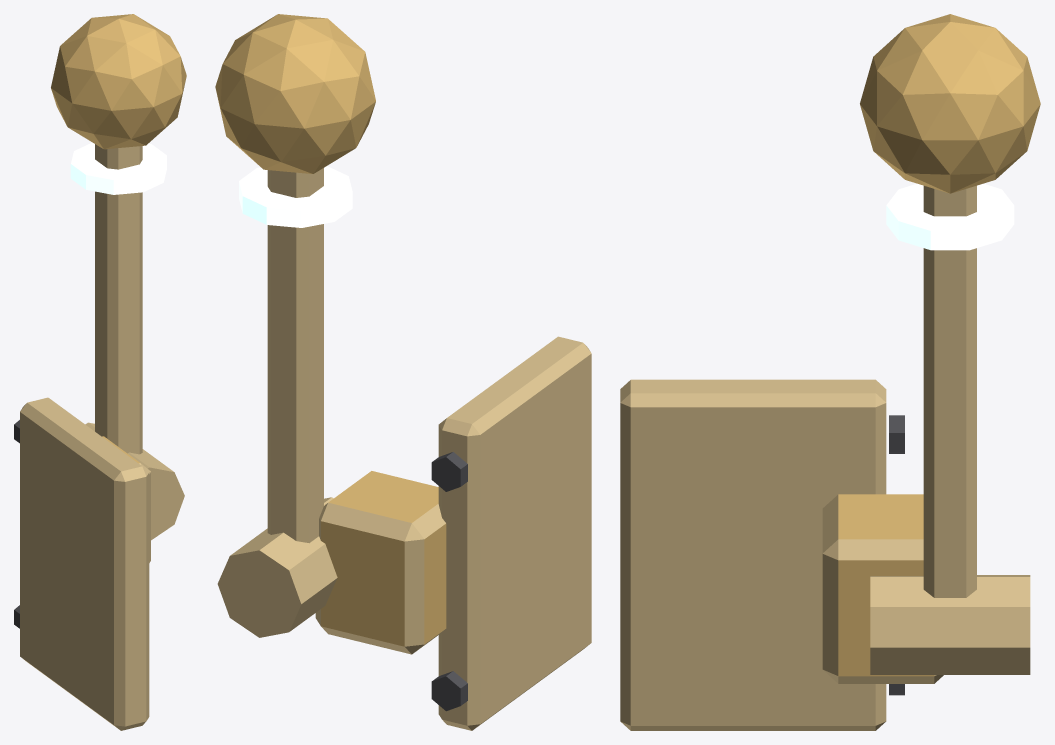
Rendered from Test_Lever.fbx.
The picture shows the model from 3 angles, left to right: view 1: azimuth 30°, elevation 25°; view 2: azimuth 150°, elevation 25°; view 3: azimuth 270°, elevation 25°; orthographic projection. The views are drawn at different scales.
Visible parts, largest first — view 1: Test_Lever, Moving.019; view 2: Test_Lever, Moving.019; view 3: Test_Lever, Moving.019.
Part boxes in pixels (box(x1,y1,x2,y2)): Test_Lever: box(14, 397, 150, 730); Moving.019: box(51, 14, 186, 540); Test_Lever: box(315, 336, 591, 730); Moving.019: box(215, 14, 375, 637); Test_Lever: box(620, 379, 943, 730); Moving.019: box(860, 14, 1040, 674).
Size of the model in its own units: 0.5217 by 1.6 by 0.79.
